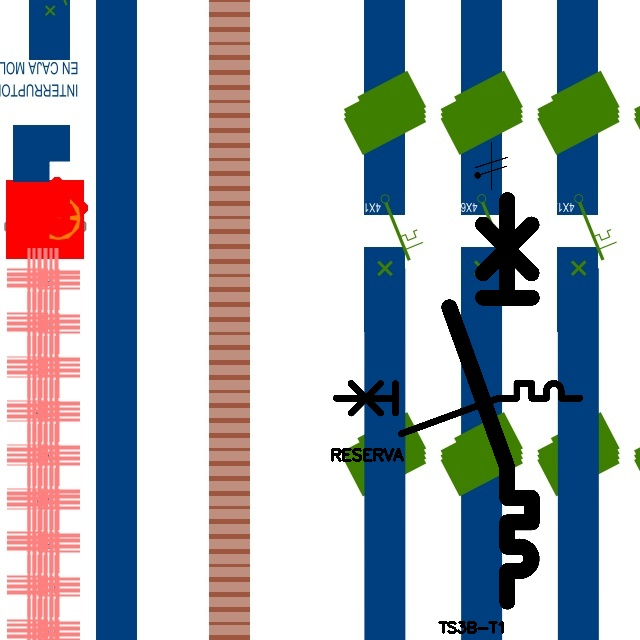interruptor_termomagnetico: (439, 189, 542, 611), (330, 377, 586, 439)
